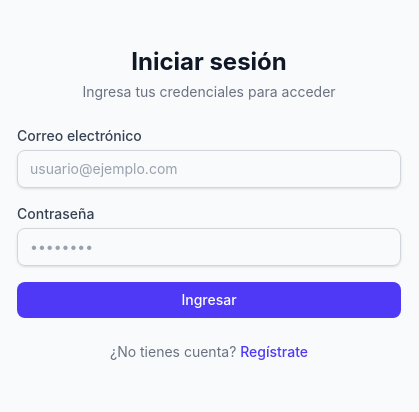
Test: LoginPage › shows error message on login failure
Type "bad@test.com" into the field labelled "Correo electrónico" at (209, 169), box [17,150,401,188]
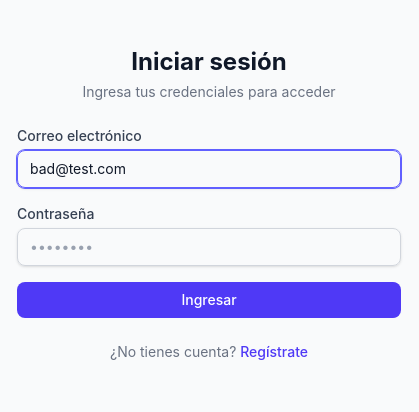
Type "wrong" into the password field labelled "Contraseña" at (209, 247), box [17,228,401,266]
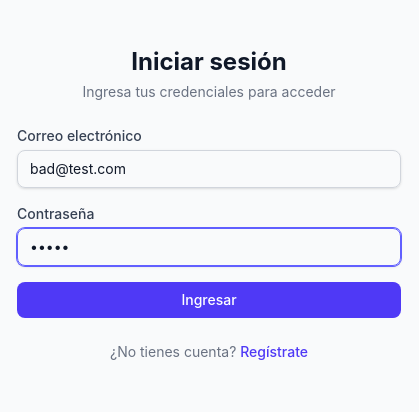
Click the button "Ingresar" at (209, 300), box [17,282,401,318]
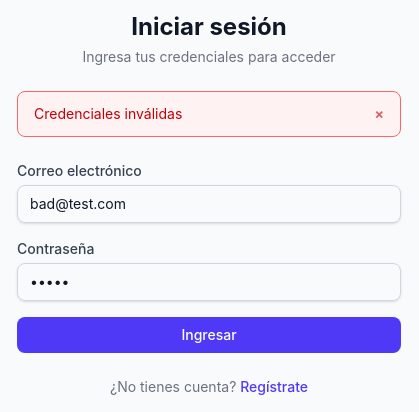
Expected: the message shows "Credenciales inválidas", [34,105,182,122]
